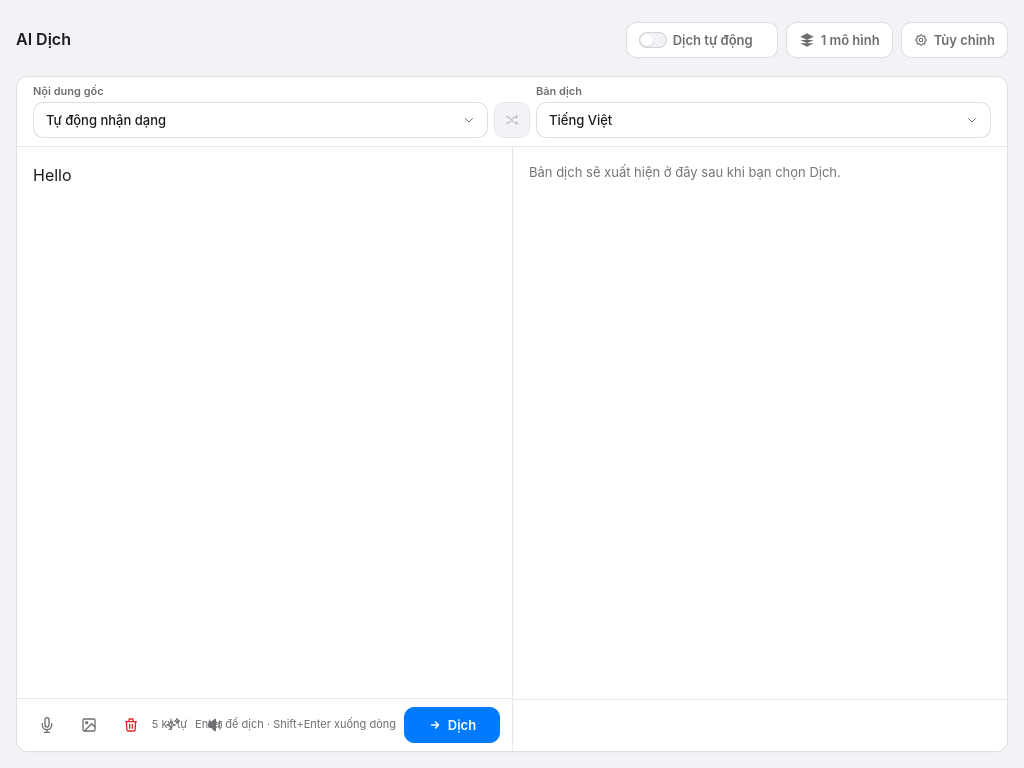
Test: TranslatePage › does not leak an unstructured backend exception into the localized UI
Click the button "Dịch": (452, 725) left=404, top=707, right=500, bottom=743
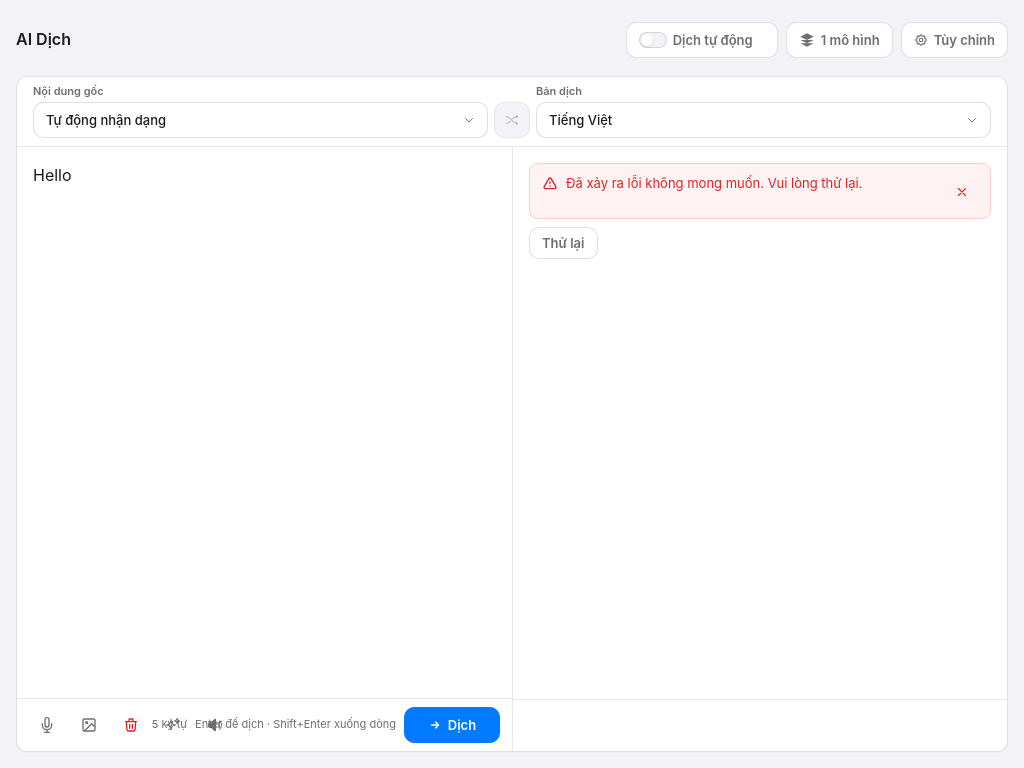
Expected: the text "Đã xảy ra lỗi không mong muốn. Vui lòng thử lại." is shown, left=566, top=175, right=862, bottom=191
